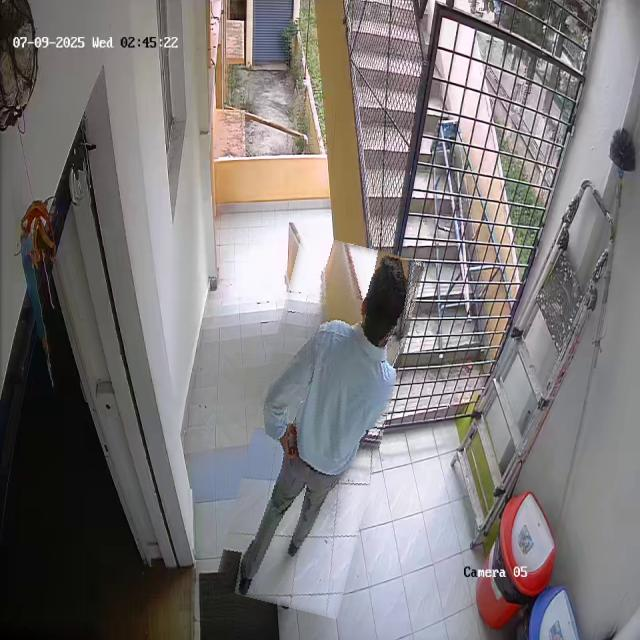person: (235, 238, 404, 614)
